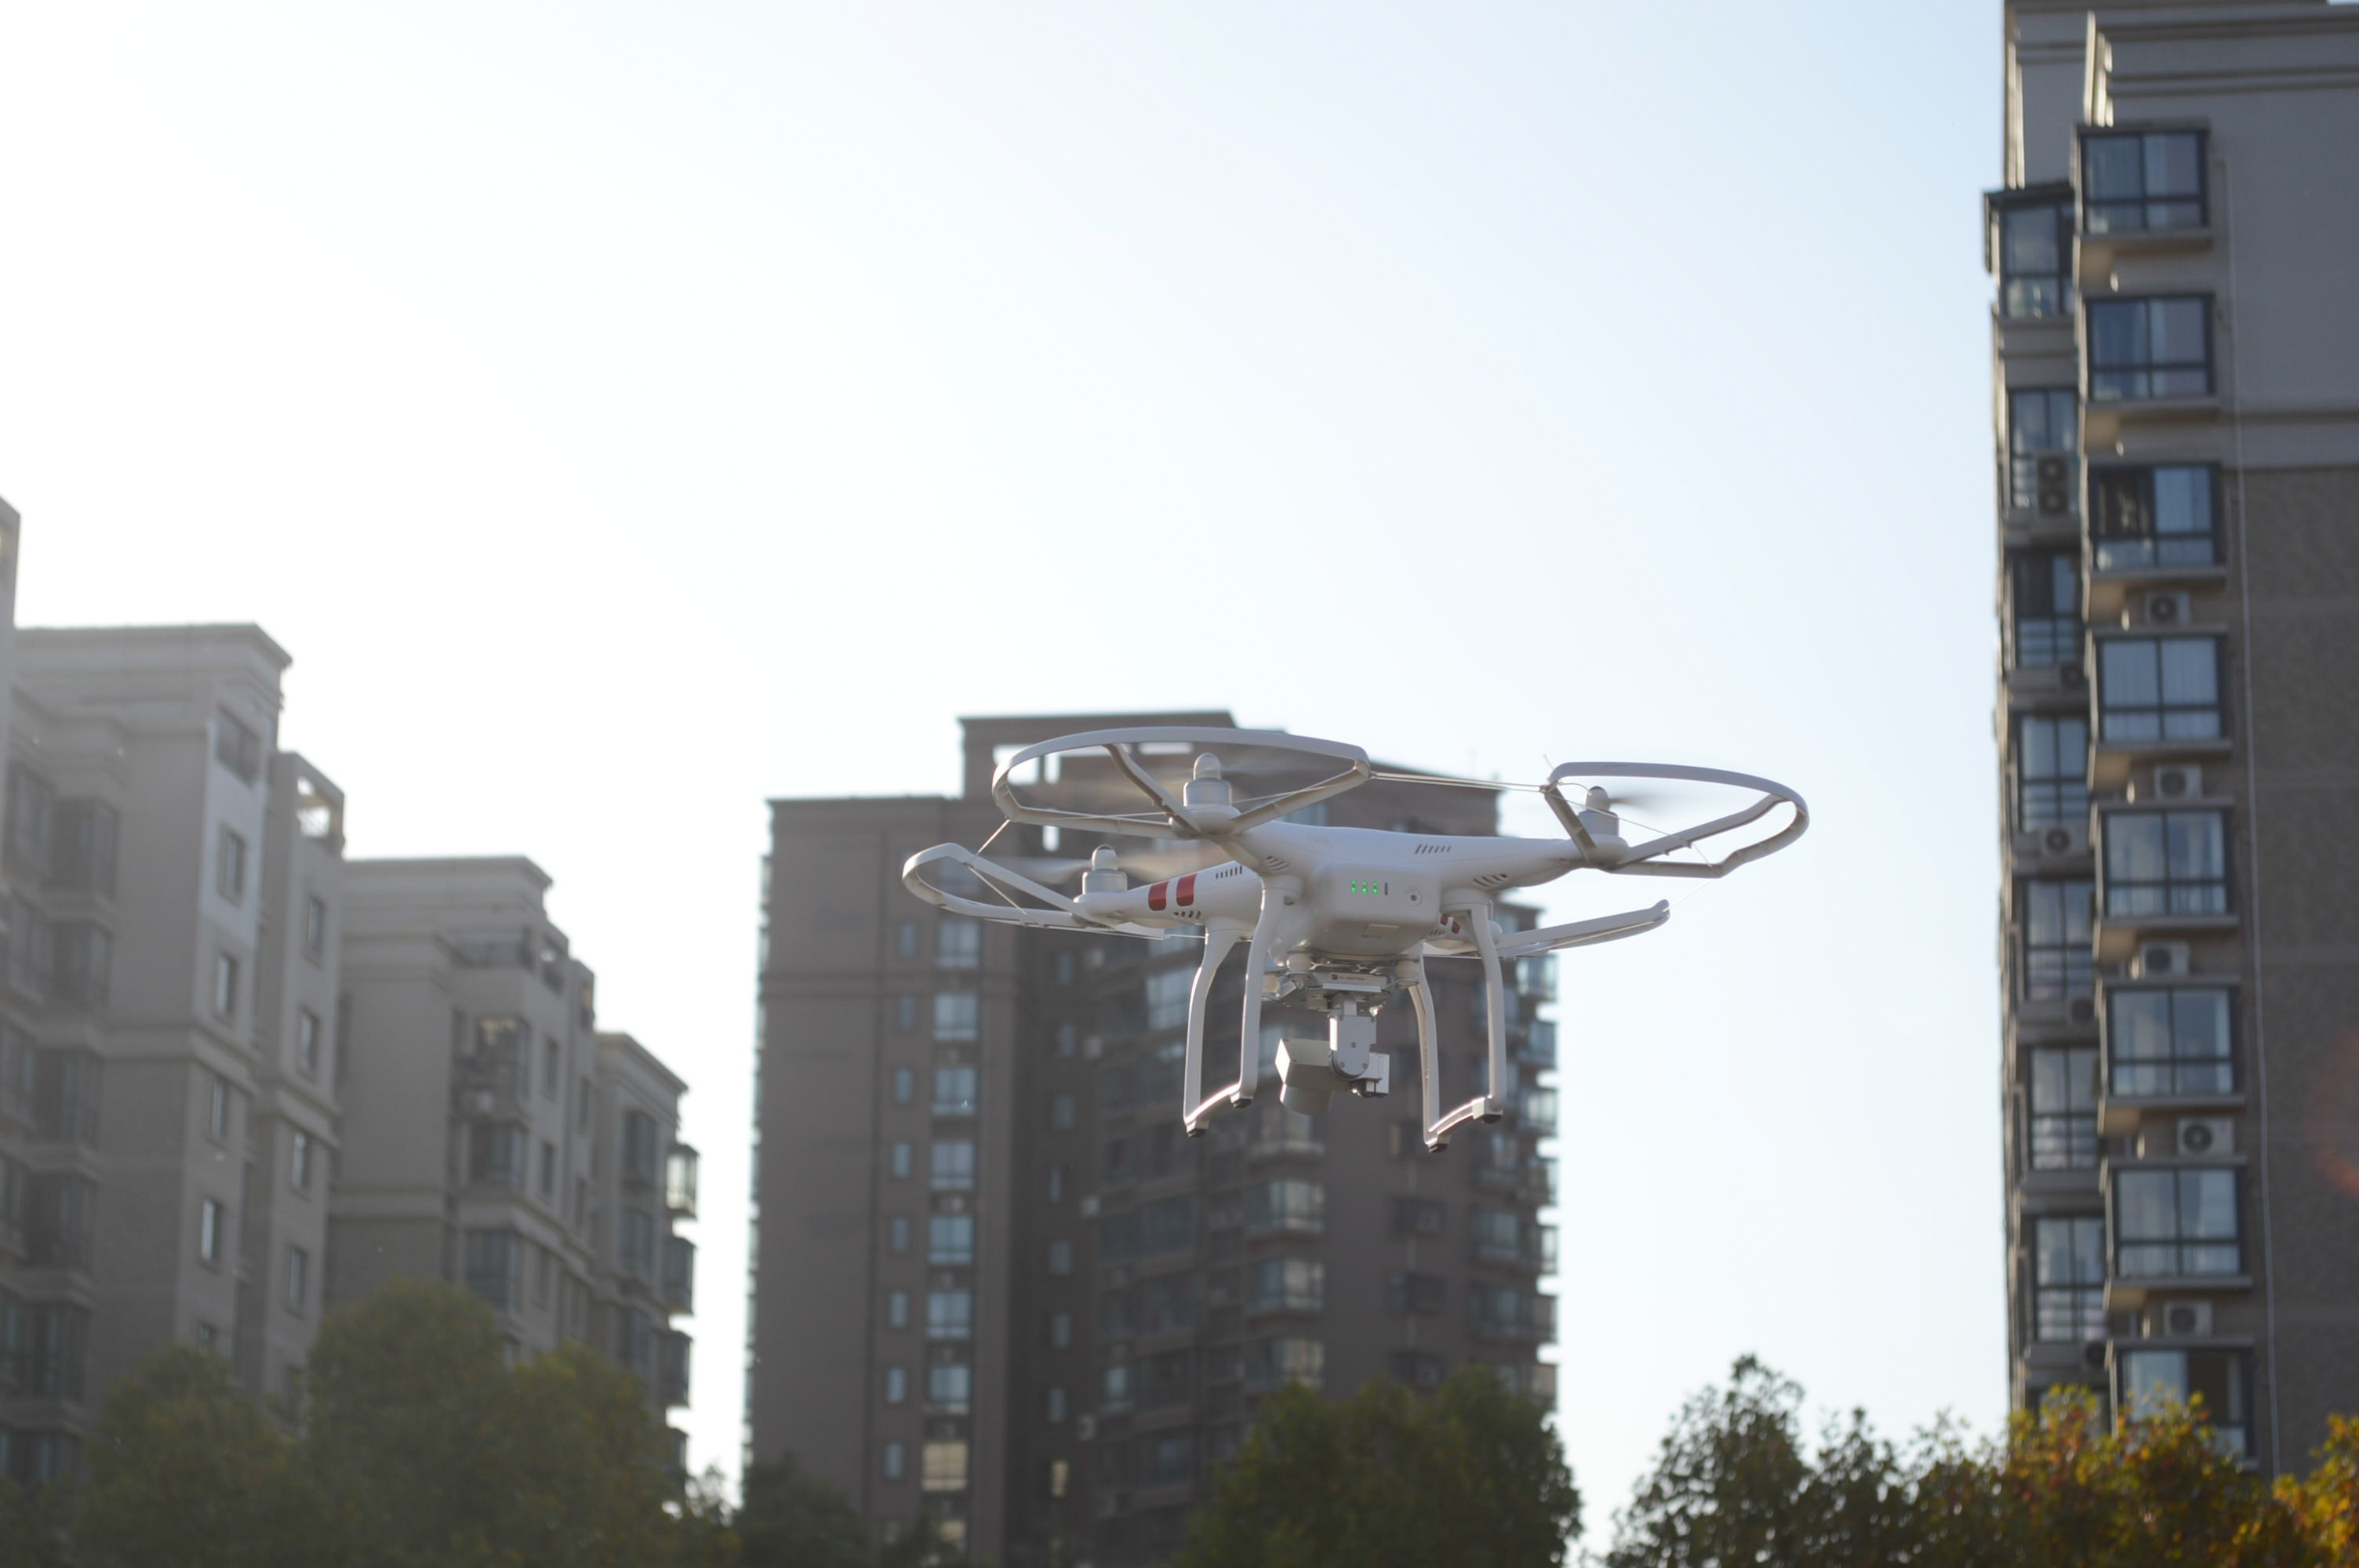DJI: (891, 716, 1809, 1160)
